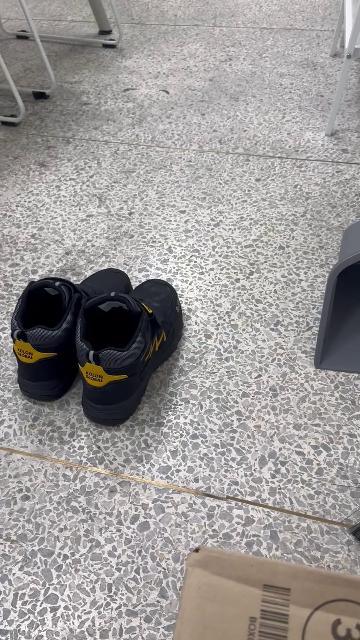shoe_worn: (73, 277, 187, 424), (11, 267, 133, 402)
